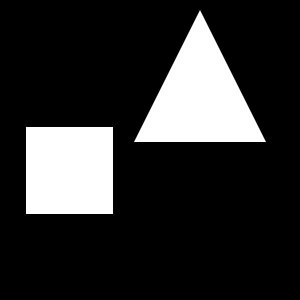circle: (26, 127, 113, 214)
triangle: (134, 10, 266, 142)
